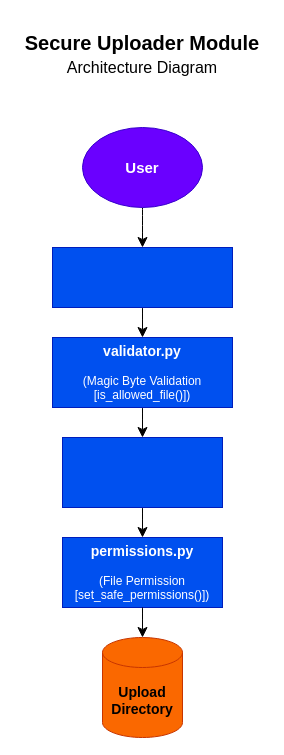
Some shapes in this 284 by 755 pixel diagram are drawn without their labels. The centre of each missing label's shape, as x and y in pixels:
"sanitizer.py (Filename Sanitization [clean_filename()])" belongs at (x=142, y=472).
"uploader.py [(secure_upload()]" belongs at (x=142, y=277).
